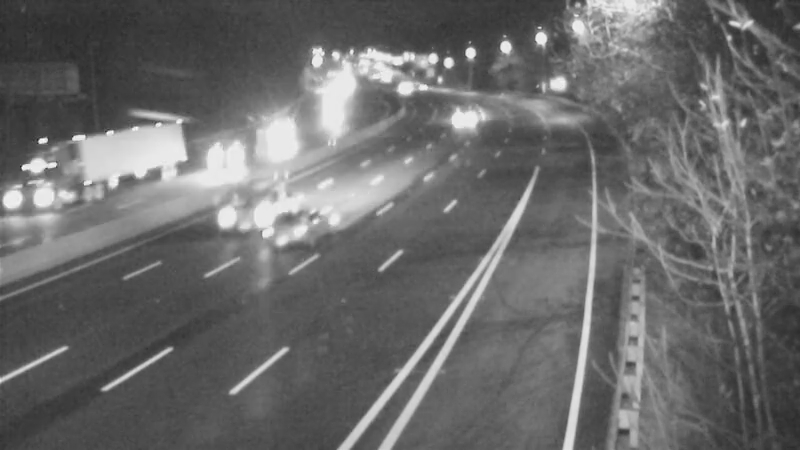vehicle: (196, 166, 276, 246), (262, 193, 342, 273), (179, 121, 259, 201), (1, 159, 79, 239), (379, 65, 429, 115), (437, 95, 487, 145), (257, 110, 307, 160)
